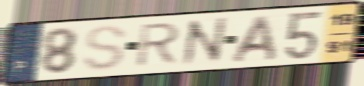5: (283, 10, 324, 61)
8: (38, 25, 80, 77)
A: (228, 13, 280, 65)
N: (180, 15, 229, 69)
R: (132, 21, 184, 70)
S: (80, 24, 129, 73)
